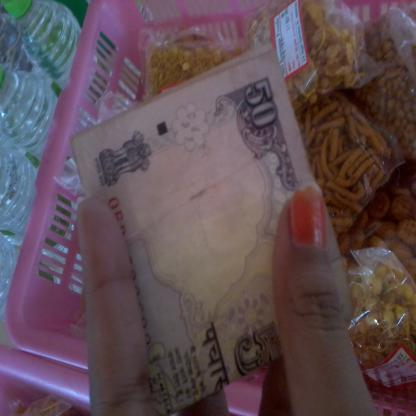Old50Front: (71, 41, 352, 416)
